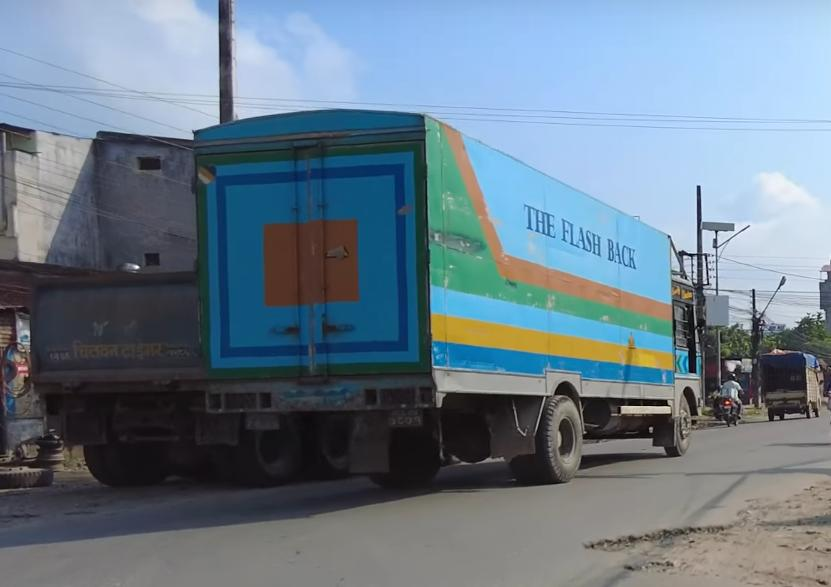bike: (712, 391, 742, 426)
truck: (174, 97, 708, 488)
